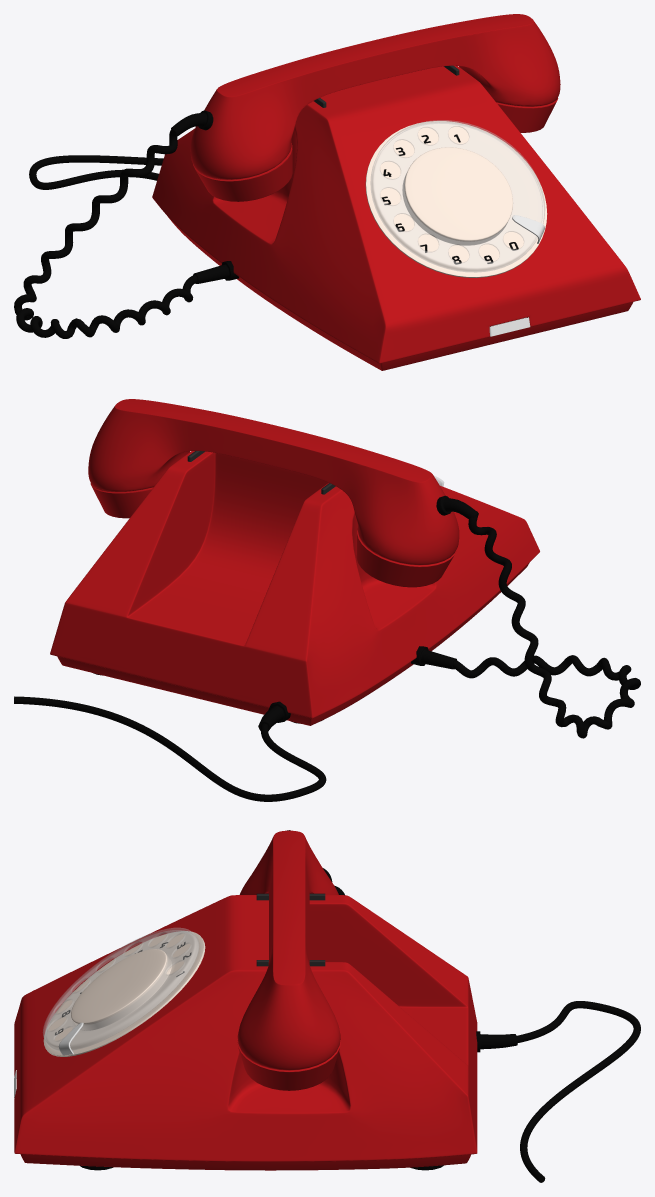
The model's file is phone_anim.glb.
The picture shows the model from 3 angles, top to bottom: view 1: azimuth 30°, elevation 25°; view 2: azimuth 150°, elevation 25°; view 3: azimuth 270°, elevation 25°; orthographic projection.
Parts seen in each view (by area): view 1: model_3, model_3.011, model_3.016, model_3.014, BézierCurve, BézierCurve.001, model_3.007, model_3.010; view 2: model_3, model_3.011, BézierCurve, BézierCurve.001, model_3.007, model_3.010; view 3: model_3, model_3.011, model_3.016, model_3.014, BézierCurve.001, model_3.009.
Part boxes in pixels (<box>): model_3: <box>152,65,640,370</box>; model_3.011: <box>190,14,560,201</box>; model_3.016: <box>365,121,547,277</box>; model_3.014: <box>370,120,544,272</box>; BézierCurve: <box>14,126,197,338</box>; BézierCurve.001: <box>29,155,163,189</box>; model_3.007: <box>193,261,239,283</box>; model_3.010: <box>171,110,213,136</box>; model_3: <box>50,451,539,725</box>; model_3.011: <box>88,399,459,587</box>; BézierCurve: <box>453,510,640,738</box>; BézierCurve.001: <box>14,696,326,801</box>; model_3.007: <box>411,646,457,669</box>; model_3.010: <box>436,495,478,519</box>; model_3: <box>14,895,477,1170</box>; model_3.011: <box>237,830,341,1090</box>; model_3.016: <box>43,931,205,1056</box>; model_3.014: <box>43,928,199,1050</box>; BézierCurve.001: <box>517,1001,640,1182</box>; model_3.009: <box>476,1031,517,1052</box>.
Bounding box in the file's own units: 2.99 × 1.15 × 3.01.
8 materials, 2 textured.
